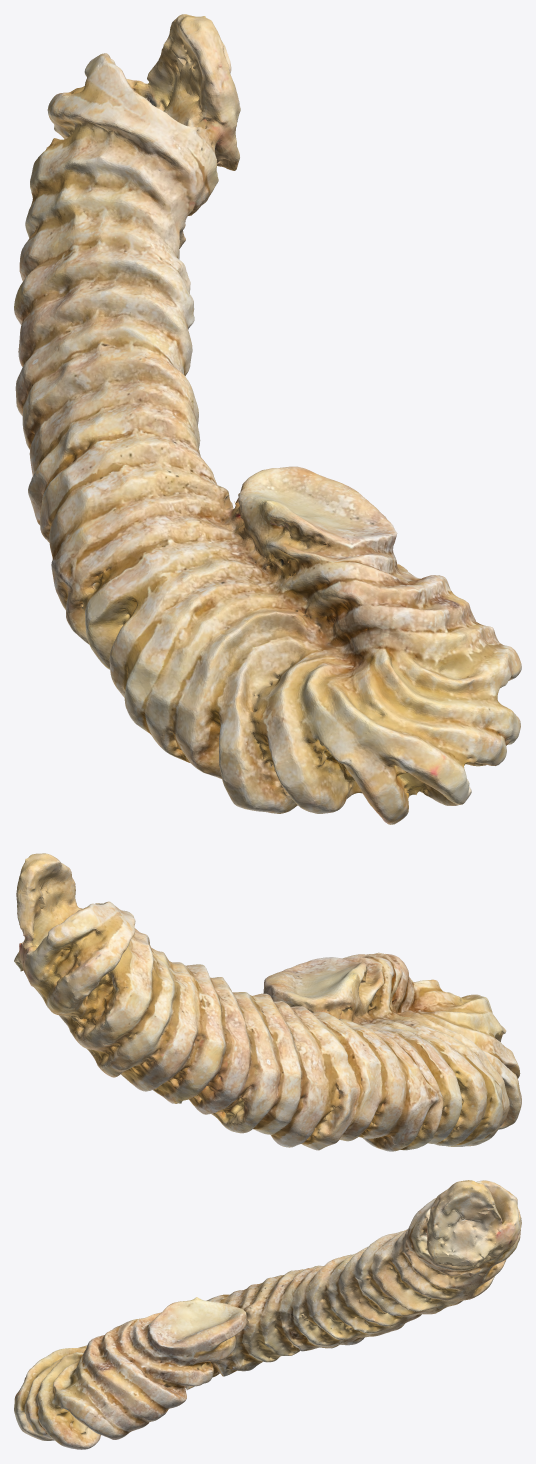
The model's file is MZUR3D-064.glb.
3 views of the same model, one above another, from view 1: azimuth 30°, elevation 25°; view 2: azimuth 150°, elevation 25°; view 3: azimuth 270°, elevation 25° (orthographic). The views are drawn at different scales.
Parts seen in each view (by area): view 1: MZUR3D-064; view 2: MZUR3D-064; view 3: MZUR3D-064.
Part boxes in pixels (x1,y1,x2,y2): MZUR3D-064: (14,14,521,824); MZUR3D-064: (14,853,521,1151); MZUR3D-064: (14,1180,521,1449).
Size of the model in its own units: 7.24 by 10.33 by 15.92.
1 material, 1 textured.
